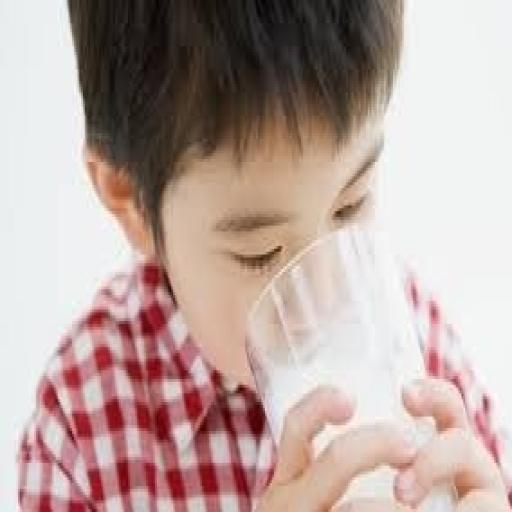drinking: (244, 223, 510, 509)
